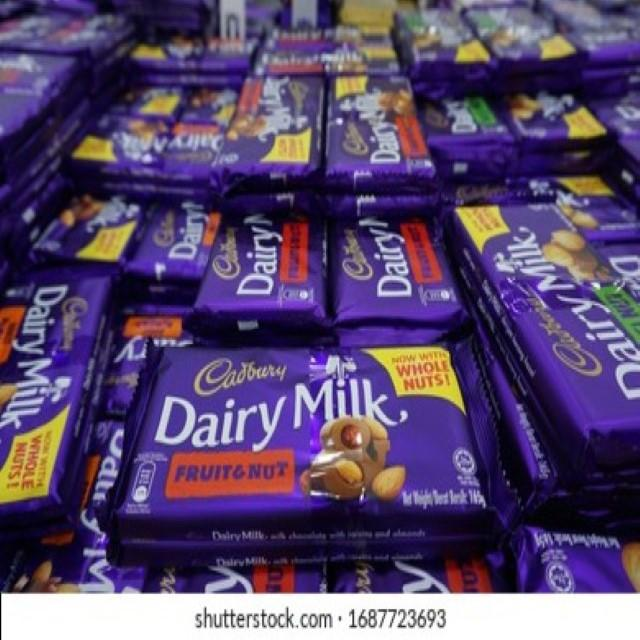cadbury_chocolate: (143, 343, 502, 522), (463, 209, 640, 461), (0, 270, 80, 537), (347, 212, 458, 328), (240, 62, 335, 193), (228, 205, 318, 333), (333, 58, 417, 185), (172, 73, 240, 192), (110, 75, 173, 180), (157, 200, 215, 290)
